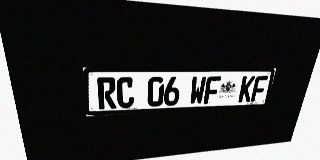0: (147, 77, 165, 107)
6: (163, 76, 181, 106)
C: (116, 77, 134, 108)
F: (203, 76, 221, 104), (250, 76, 268, 102)
K: (238, 76, 256, 102)
R: (97, 77, 116, 109)
W: (189, 76, 207, 105)
